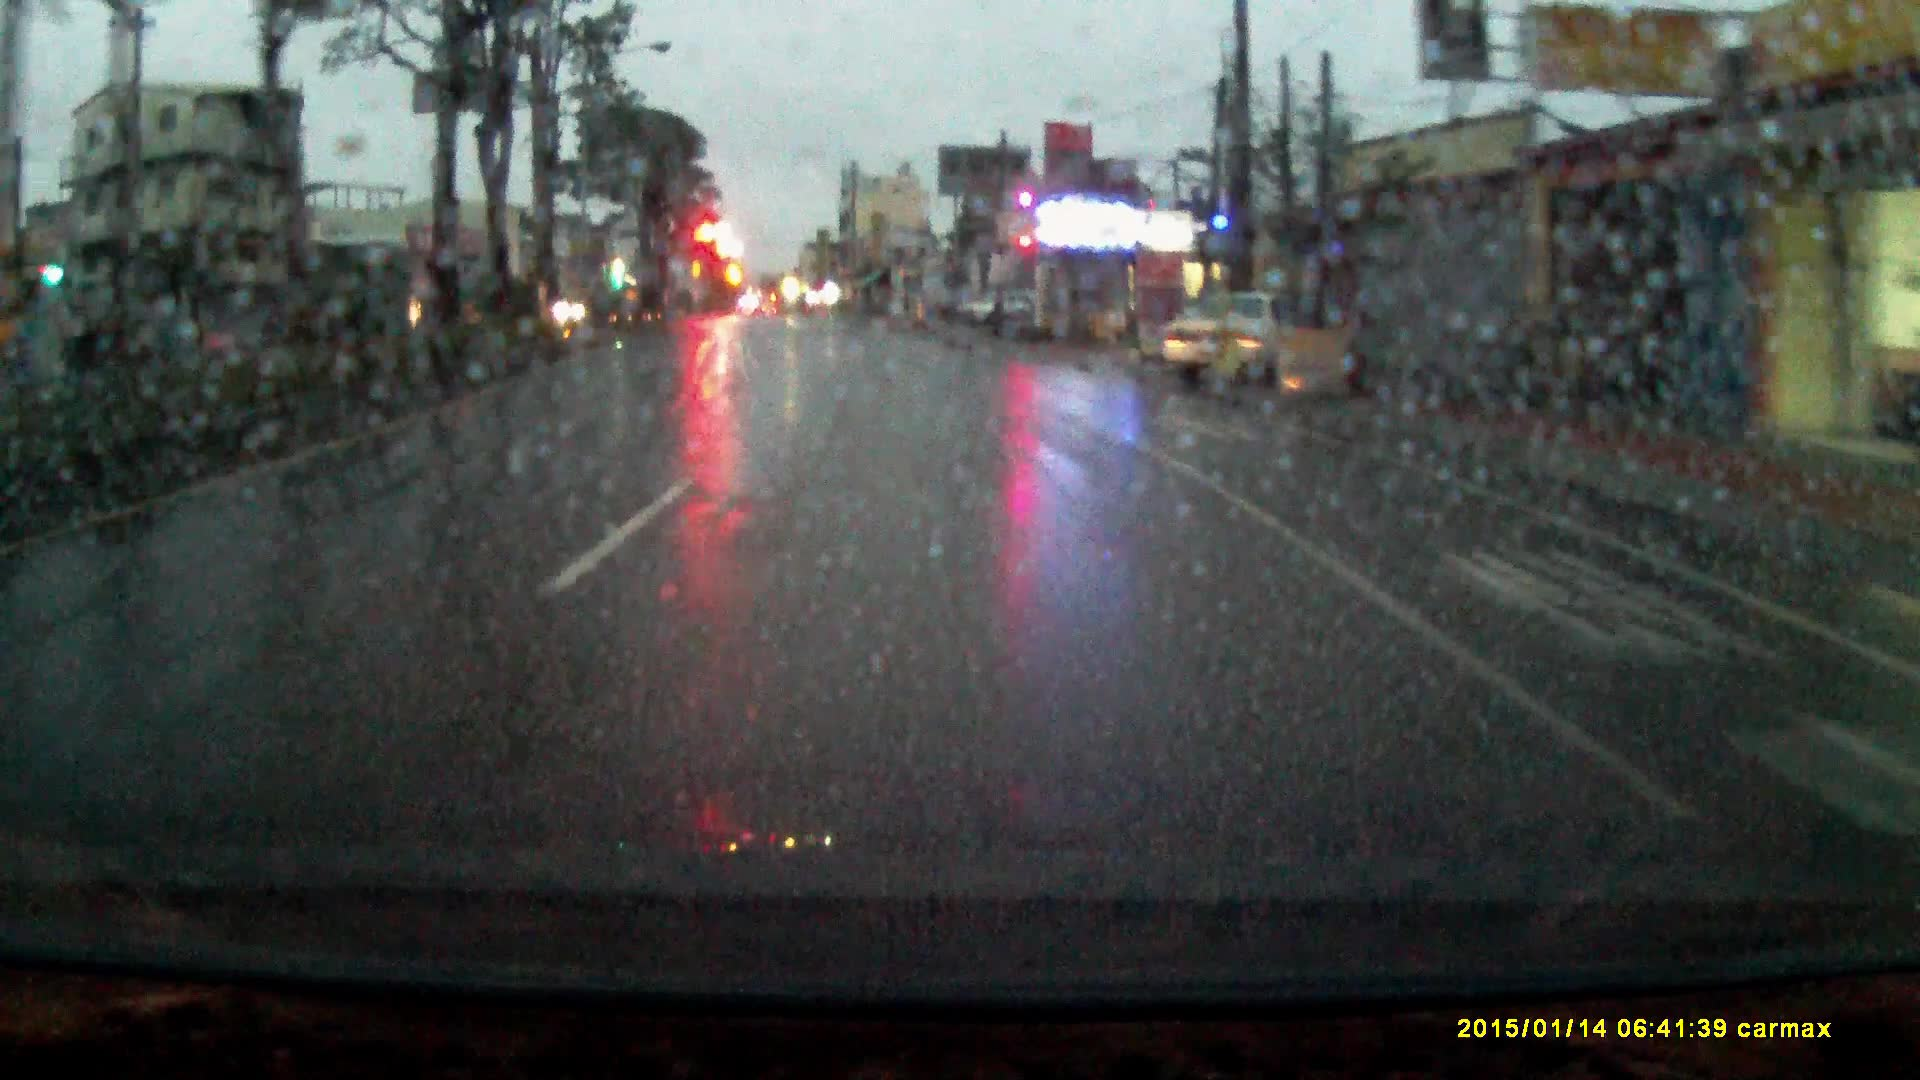vehicle: (1175, 290, 1335, 389), (964, 287, 1044, 324)
